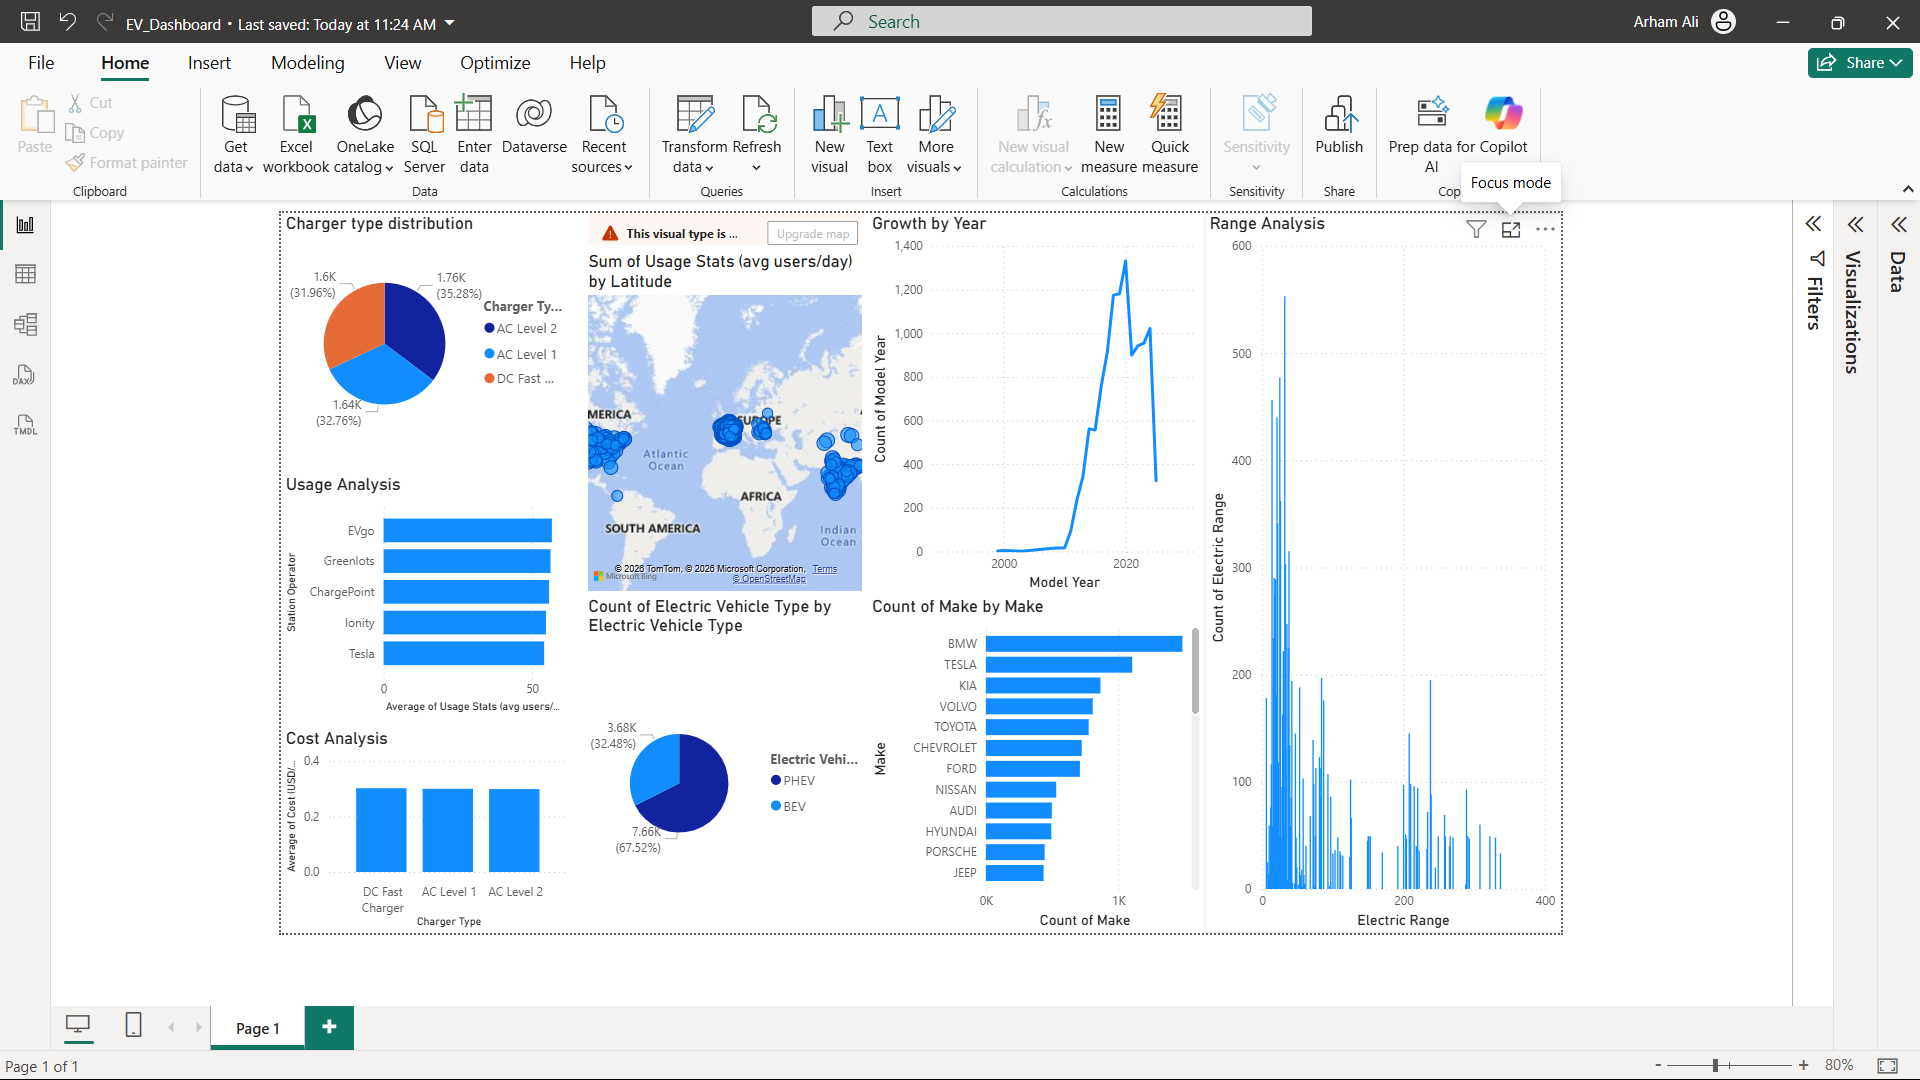

Layout of this report page (visuals, bound fields, positions):
{"tool":"powerbi","page":{"name":"Page 1","canvas":[1280,720],"ordinal":0},"visuals":[{"type":"pieChart","title":"Charger type distribution","fields":{"Category":["charging_stations.Charger Type"],"Y":["CountNonNull(charging_stations.Station ID)"]},"box":[0,0,292.5,242.5],"z":0},{"type":"clusteredBarChart","title":"Usage Analysis","fields":{"Y":["Avg(charging_stations.Usage Stats (avg users/day))"],"Category":["charging_stations.Station Operator"]},"box":[0,261.5,293,243],"z":1},{"type":"clusteredColumnChart","title":"Cost Analysis","fields":{"Category":["charging_stations.Charger Type"],"Y":["Avg(charging_stations.Cost (USD/kWh))"]},"box":[0,515,293,205],"z":2},{"type":"map","fields":{"Category":["charging_stations.Latitude","charging_stations.Longitude"],"Size":["Sum(charging_stations.Usage Stats (avg users/day))"]},"box":[302.5,0,283.8,382.5],"z":3},{"type":"lineChart","title":"Growth by Year","fields":{"Category":["EV_population_cleaned.Model Year"],"Y":["CountNonNull(EV_population_cleaned.Model Year)"]},"box":[586.2,0,337.5,382.5],"z":4},{"type":"pieChart","fields":{"Category":["EV_population_cleaned.Electric Vehicle Type"],"Y":["CountNonNull(EV_population_cleaned.Electric Vehicle Type)"]},"box":[302.5,382.5,283.8,337.5],"z":5},{"type":"clusteredBarChart","fields":{"Y":["CountNonNull(EV_population_cleaned.Make)"],"Category":["EV_population_cleaned.Make"]},"box":[586.2,382.5,337.5,337.5],"z":6},{"type":"clusteredColumnChart","title":"Range Analysis","fields":{"Category":["EV_population_cleaned.Electric Range"],"Y":["CountNonNull(EV_population_cleaned.Electric Range)"]},"box":[923.8,0,356.2,720],"z":7}]}

Visuals, with their boxes in screenshot pixels (x1, y1, x2, y2):
"Charger type distribution" pieChart: box=[0, 35, 338, 394]
"Usage Analysis" clusteredBarChart: box=[0, 422, 338, 781]
"Cost Analysis" clusteredColumnChart: box=[0, 797, 338, 1079]
map - charging_stations.Latitude x charging_stations.Longitude: box=[352, 35, 772, 601]
"Growth by Year" lineChart: box=[772, 35, 1271, 601]
pieChart - EV_population_cleaned.Electric Vehicle Type x CountNonNull(EV_population_cleaned.Electric Vehicle Type): box=[352, 601, 772, 1079]
clusteredBarChart - CountNonNull(EV_population_cleaned.Make) x EV_population_cleaned.Make: box=[772, 601, 1271, 1079]
"Range Analysis" clusteredColumnChart: box=[1272, 35, 1798, 1079]
